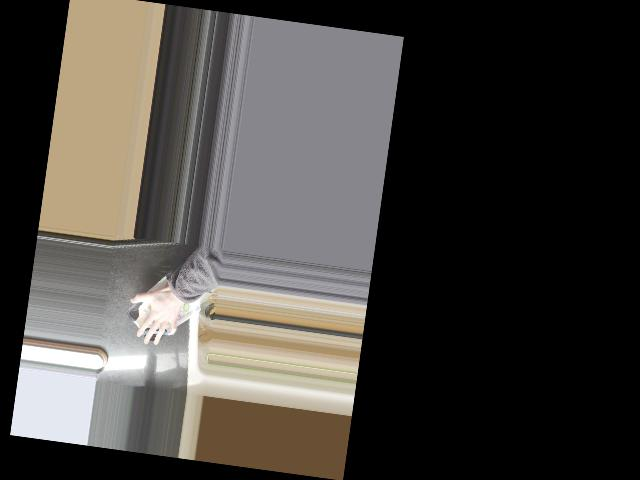cheese: (122, 265, 207, 350)
